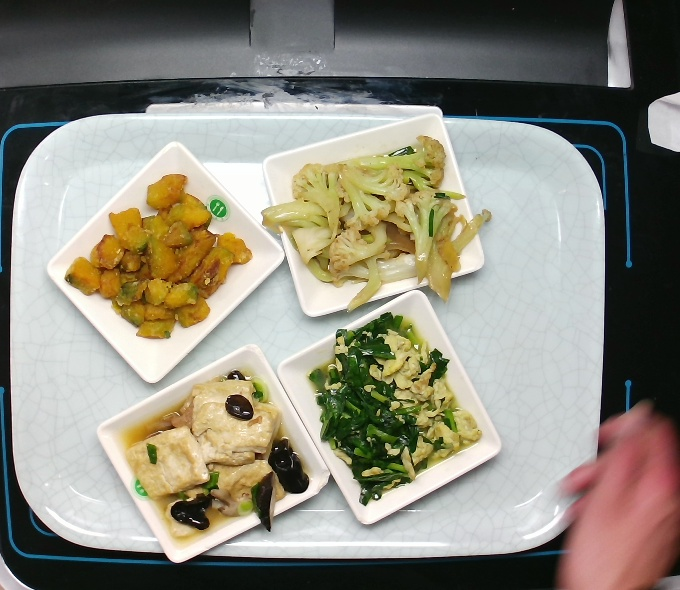wcq-DanHuangNanGua: (58, 168, 263, 349)
wcq-JiaChangDouFu: (119, 378, 310, 547)
wcq-JiuCaiJiDan: (299, 311, 487, 514)
wcq-QiuCai: (271, 132, 497, 312)
